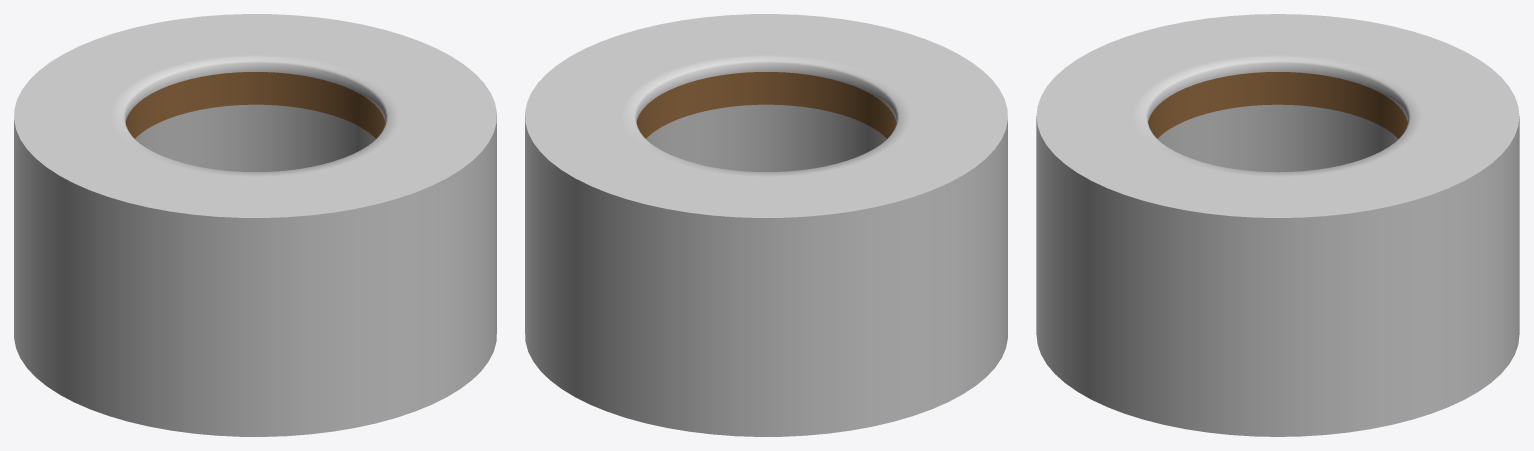
Rendered from SM_Hole.fbx.
The picture shows the model from 3 angles, left to right: view 1: azimuth 30°, elevation 25°; view 2: azimuth 150°, elevation 25°; view 3: azimuth 270°, elevation 25°; orthographic projection.
Visible parts, largest first — view 1: Cylinder.003; view 2: Cylinder.003; view 3: Cylinder.003.
Boxes of the visible parts, left/top/right/bottom form: Cylinder.003: left=14, top=14, right=496, bottom=436; Cylinder.003: left=525, top=14, right=1007, bottom=436; Cylinder.003: left=1036, top=14, right=1519, bottom=436.
Size of the model in its own units: 200 by 105 by 200.
2 materials, 1 textured.
